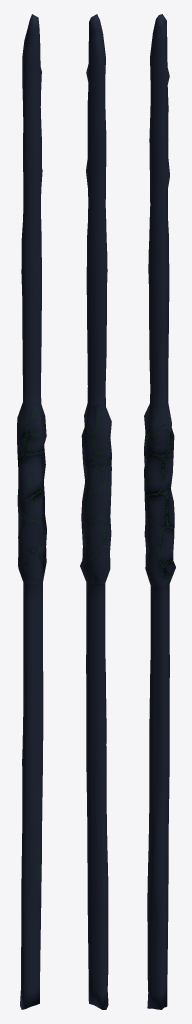
The model's file is Explosive_wall.fbx.
The picture shows the model from 3 angles, left to right: view 1: azimuth 30°, elevation 25°; view 2: azimuth 150°, elevation 25°; view 3: azimuth 330°, elevation 25°; orthographic projection.
Visible parts, largest first — view 1: Explosive_Wall_low; view 2: Explosive_Wall_low; view 3: Explosive_Wall_low.
Boxes of the visible parts, bbox=[...] form: Explosive_Wall_low: bbox=[17, 14, 46, 1009]; Explosive_Wall_low: bbox=[80, 14, 111, 1009]; Explosive_Wall_low: bbox=[144, 14, 175, 1009].
Size of the model in its own units: 74.78 by 2375 by 53.98.
Materials: 1 (1 with a texture image).
